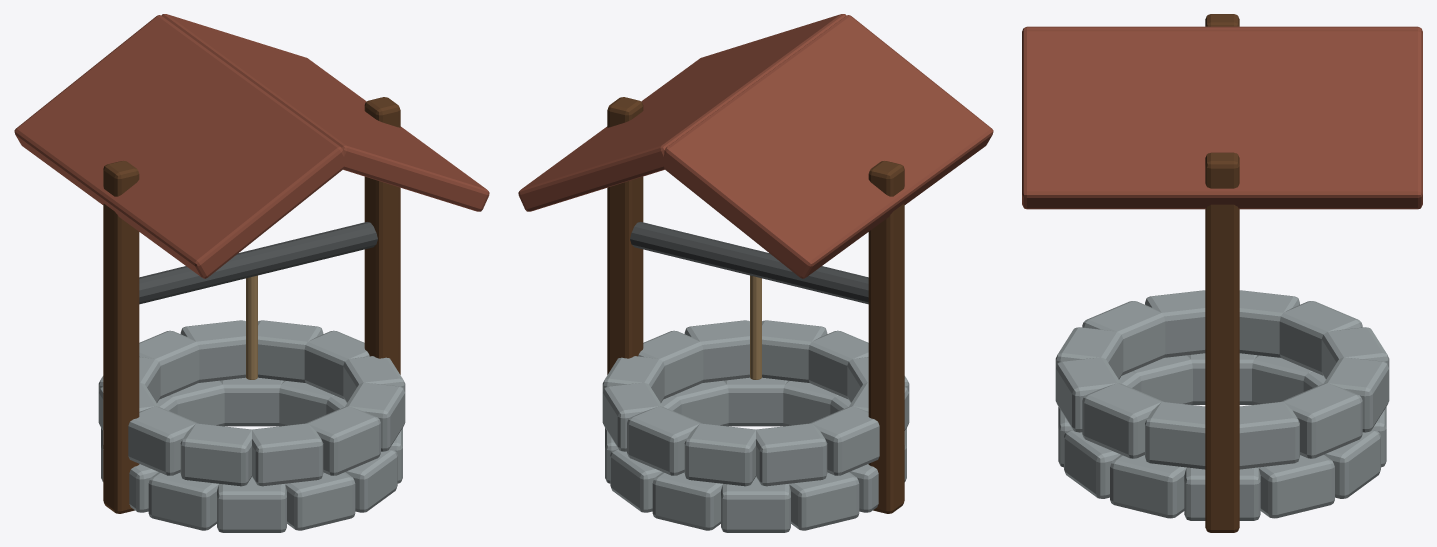
File: well_roofed_1p8.glb
The picture shows the model from 3 angles, left to right: view 1: azimuth 30°, elevation 25°; view 2: azimuth 150°, elevation 25°; view 3: azimuth 270°, elevation 25°; orthographic projection. The views are drawn at different scales.
Parts seen in each view (by area): view 1: well_roof_left, well_roof_right, well_roof_post_-0.86, well_roof_post_+0.86, well_axle, well_stone_2_08, well_stone_2_09, well_stone_2_10, well_stone_1_09, well_stone_1_08, well_stone_1_10, well_stone_2_07 (+14 smaller); view 2: well_roof_left, well_roof_right, well_roof_post_-0.86, well_roof_post_+0.86, well_axle, well_stone_2_04, well_stone_2_05, well_stone_2_03, well_stone_1_05, well_stone_1_04, well_stone_1_06, well_stone_2_06 (+14 smaller); view 3: well_roof_right, well_roof_post_+0.86, well_stone_2_02, well_stone_2_11, well_stone_1_02, well_stone_1_12, well_stone_2_01, well_stone_2_12, well_stone_2_05, well_stone_2_08, well_stone_2_06, well_stone_2_07 (+11 smaller).
Part boxes in pixels (x1=…): well_roof_left: x1=14, y1=15, x2=347, y2=278; well_roof_right: x1=161, y1=14, x2=489, y2=211; well_roof_post_-0.86: x1=103, y1=161, x2=139, y2=513; well_roof_post_+0.86: x1=364, y1=97, x2=400, y2=374; well_axle: x1=139, y1=222, x2=377, y2=304; well_stone_2_08: x1=180, y1=423, x2=251, y2=486; well_stone_2_09: x1=252, y1=423, x2=323, y2=486; well_stone_2_10: x1=306, y1=406, x2=380, y2=475; well_stone_1_09: x1=217, y1=477, x2=286, y2=532; well_stone_1_08: x1=148, y1=472, x2=218, y2=530; well_stone_1_10: x1=285, y1=472, x2=355, y2=530; well_stone_2_07: x1=128, y1=406, x2=197, y2=475; well_roof_left: x1=660, y1=15, x2=993, y2=278; well_roof_right: x1=518, y1=14, x2=846, y2=211; well_roof_post_-0.86: x1=868, y1=161, x2=904, y2=513; well_roof_post_+0.86: x1=607, y1=97, x2=643, y2=374; well_axle: x1=630, y1=222, x2=868, y2=304; well_stone_2_04: x1=684, y1=423, x2=755, y2=486; well_stone_2_05: x1=756, y1=423, x2=827, y2=486; well_stone_2_03: x1=627, y1=406, x2=701, y2=475; well_stone_1_05: x1=721, y1=477, x2=790, y2=532; well_stone_1_04: x1=652, y1=472, x2=722, y2=530; well_stone_1_06: x1=789, y1=472, x2=859, y2=530; well_stone_2_06: x1=810, y1=406, x2=879, y2=475; well_roof_right: x1=1022, y1=29, x2=1422, y2=209; well_roof_post_+0.86: x1=1205, y1=152, x2=1239, y2=532; well_stone_2_02: x1=1281, y1=383, x2=1362, y2=458; well_stone_2_11: x1=1082, y1=383, x2=1163, y2=458; well_stone_1_02: x1=1258, y1=454, x2=1334, y2=518; well_stone_1_12: x1=1110, y1=454, x2=1186, y2=518; well_stone_2_01: x1=1239, y1=402, x2=1299, y2=469; well_stone_2_12: x1=1145, y1=402, x2=1205, y2=469; well_stone_2_05: x1=1279, y1=301, x2=1362, y2=375; well_stone_2_08: x1=1082, y1=301, x2=1165, y2=375; well_stone_2_06: x1=1239, y1=290, x2=1299, y2=357; well_stone_2_07: x1=1145, y1=290, x2=1205, y2=357.
Bounding box in the file's own units: 1.94 × 2.49 × 2.1.
